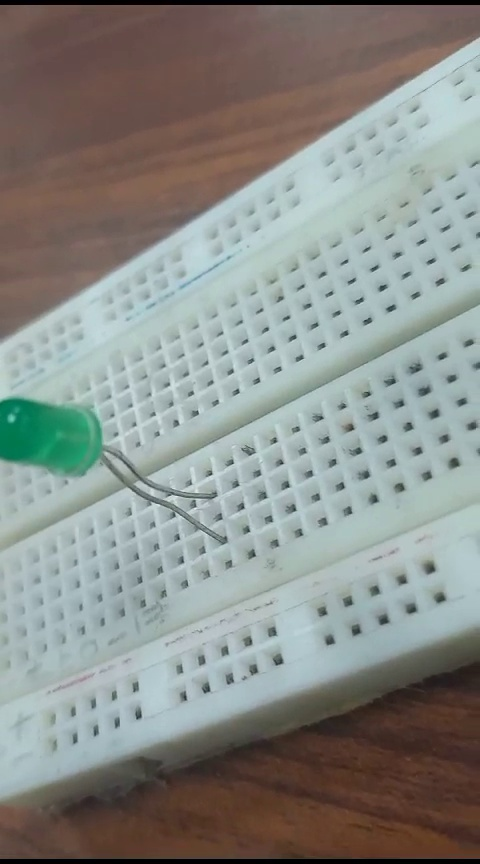LED: (4, 392, 230, 560)
